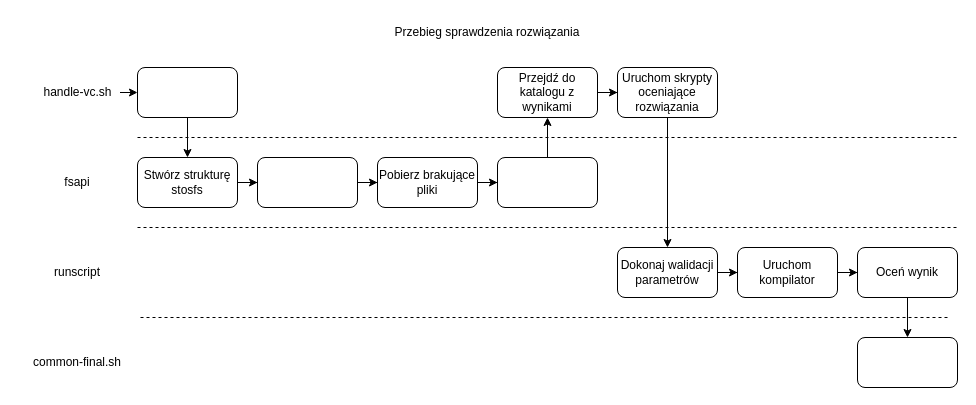
This 976x405 diagram has some shape labels left out. The centre of each missing label's shape, as x and y in pixels:
Pobierz tagi zadania: point (307, 182)
Rozpocznij synchronizację: point (187, 92)
Usuń nieodwiedzone pliki: point (547, 182)
Zapisz wynik i dane w plikach: point (907, 362)
